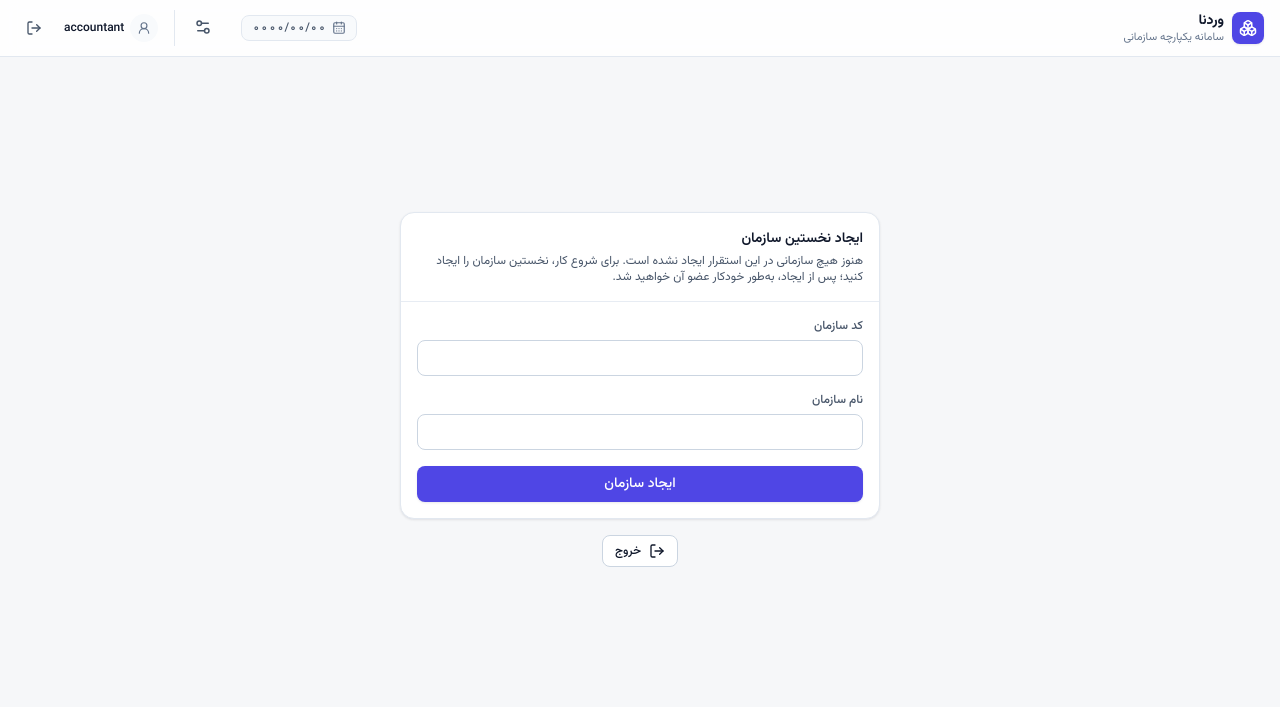
Test: organization resolution in the shell › lets a session holding organization Create + Membership.Grant create and enter the first organization (task §4/§7 unpinned lifecycle)
The image size is (1280, 707).
Expected: the heading "ایجاد نخستین سازمان" is shown, [741,228,863,250]
Type "MAIN" into the field labelled "کد سازمان". click: (640, 358)
box: [417,340,863,376]
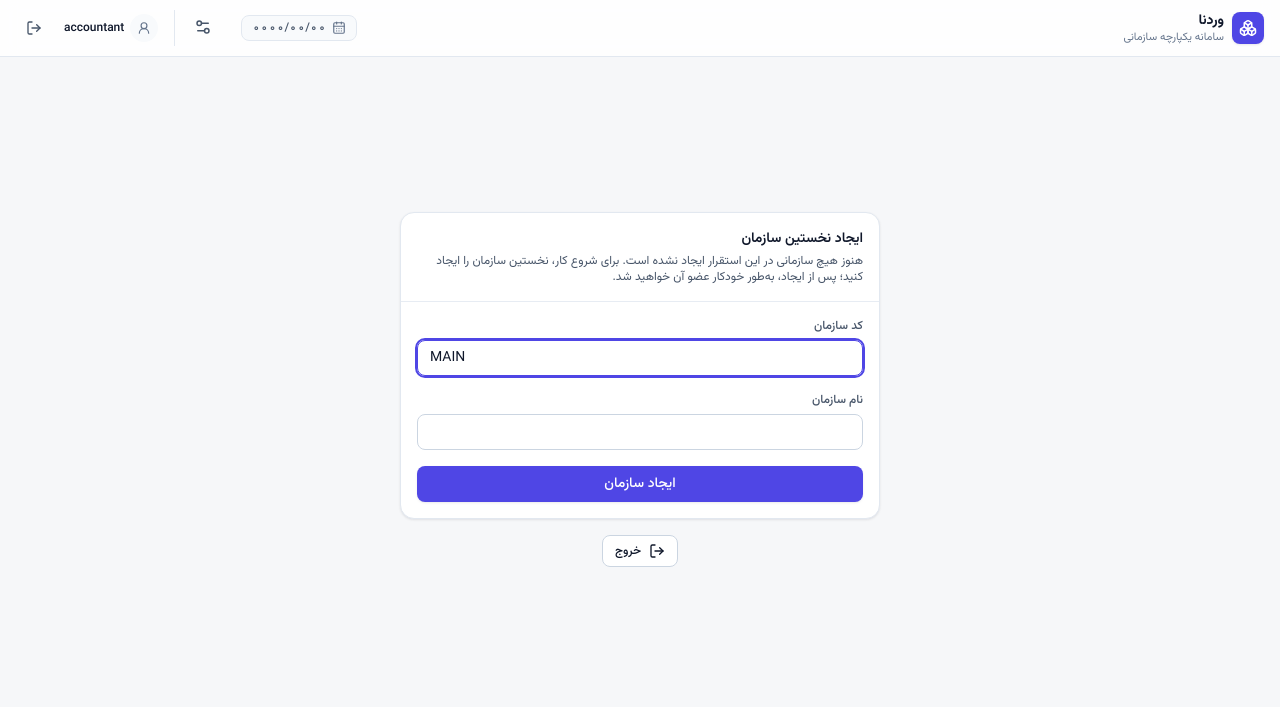
Type "سازمان اصلی" into the field labelled "نام سازمان". click: (640, 432)
box: [417,414,863,450]
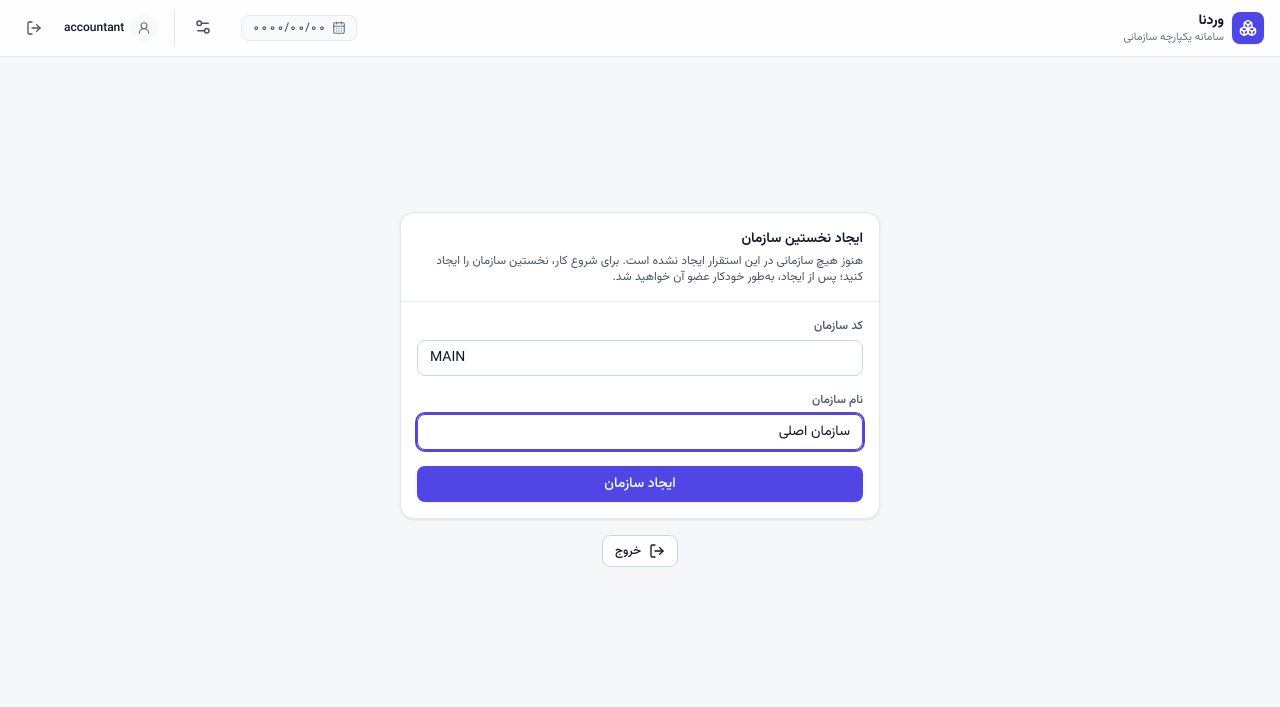
Click the button "ایجاد سازمان". click: (640, 484)
box: [417,466,863,502]
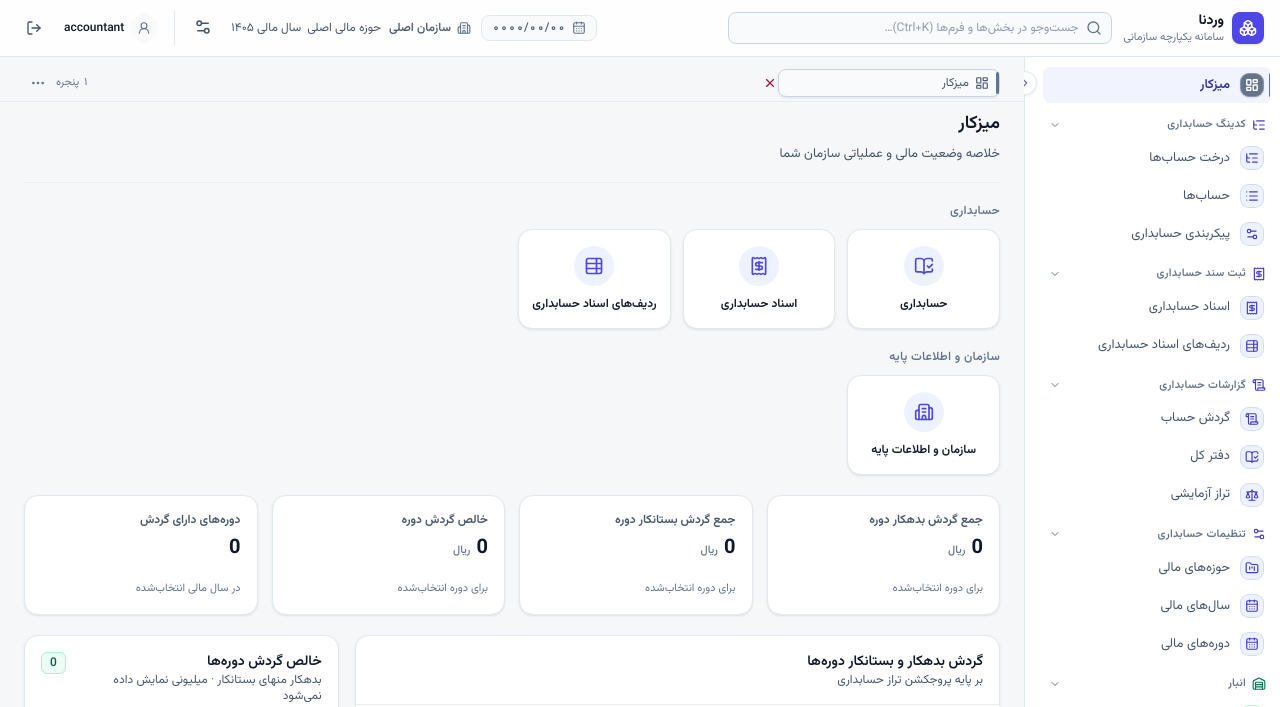
Now the heading "میزکار" is shown, box [958,110,1000,138]
